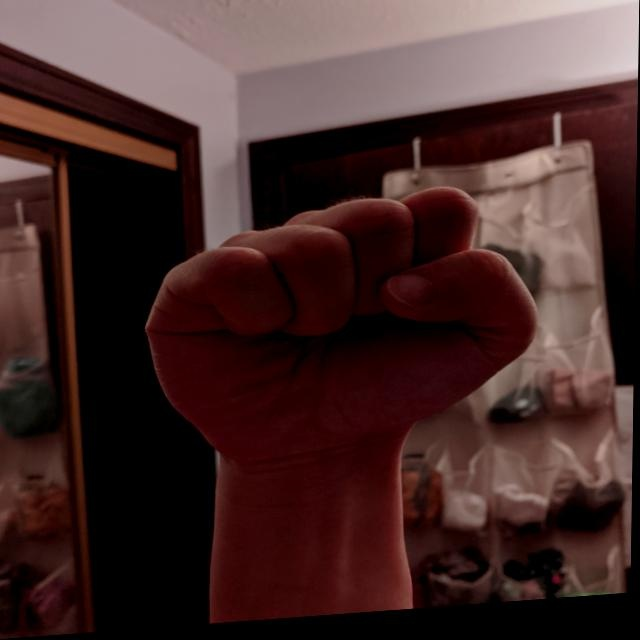S: (133, 181, 549, 474)
